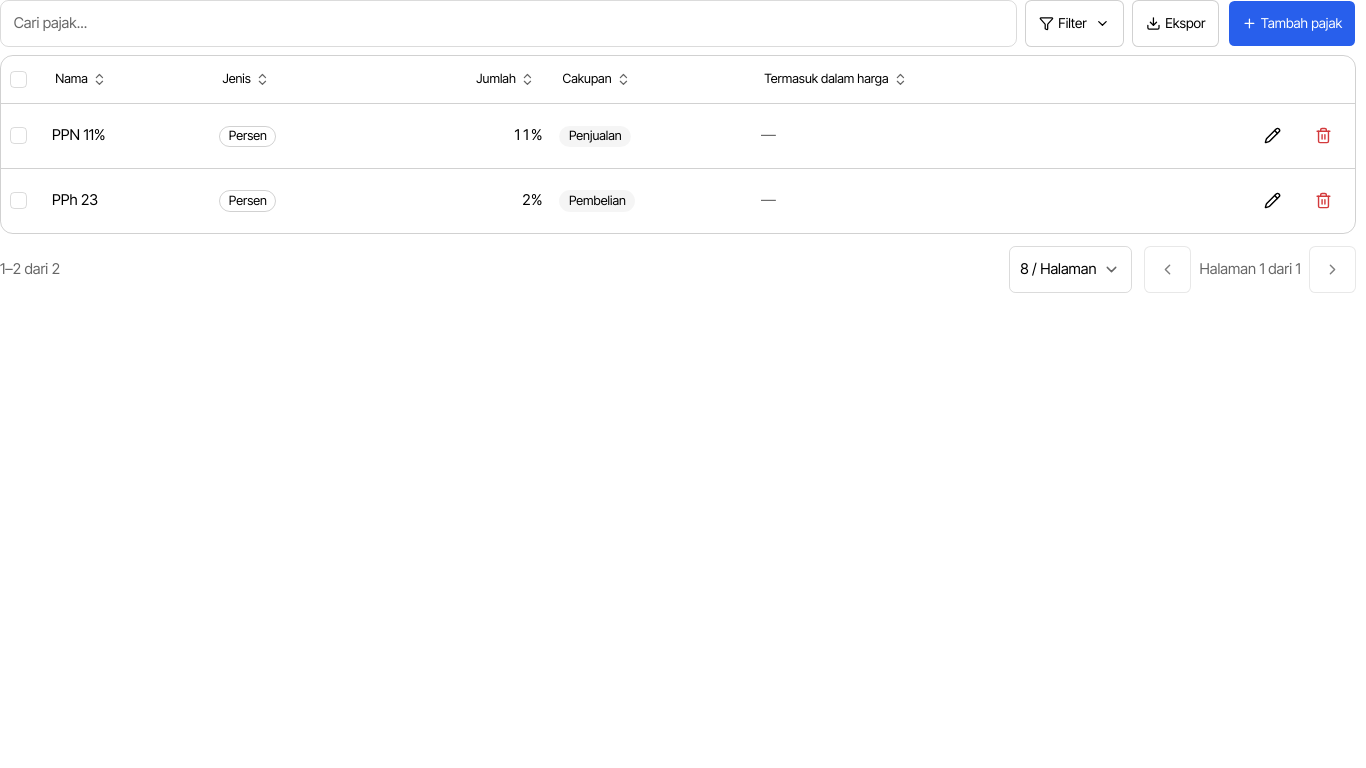
TaxesSection › opens the create dialog from the add button
The width and height of the screenshot is (1366, 768).
Expected: the text "PPN 11%" is shown, x1=52 y1=126 x2=105 y2=144
Click the button "Tambah pajak" at (1292, 23), box x1=1228 y1=0 x2=1356 y2=47
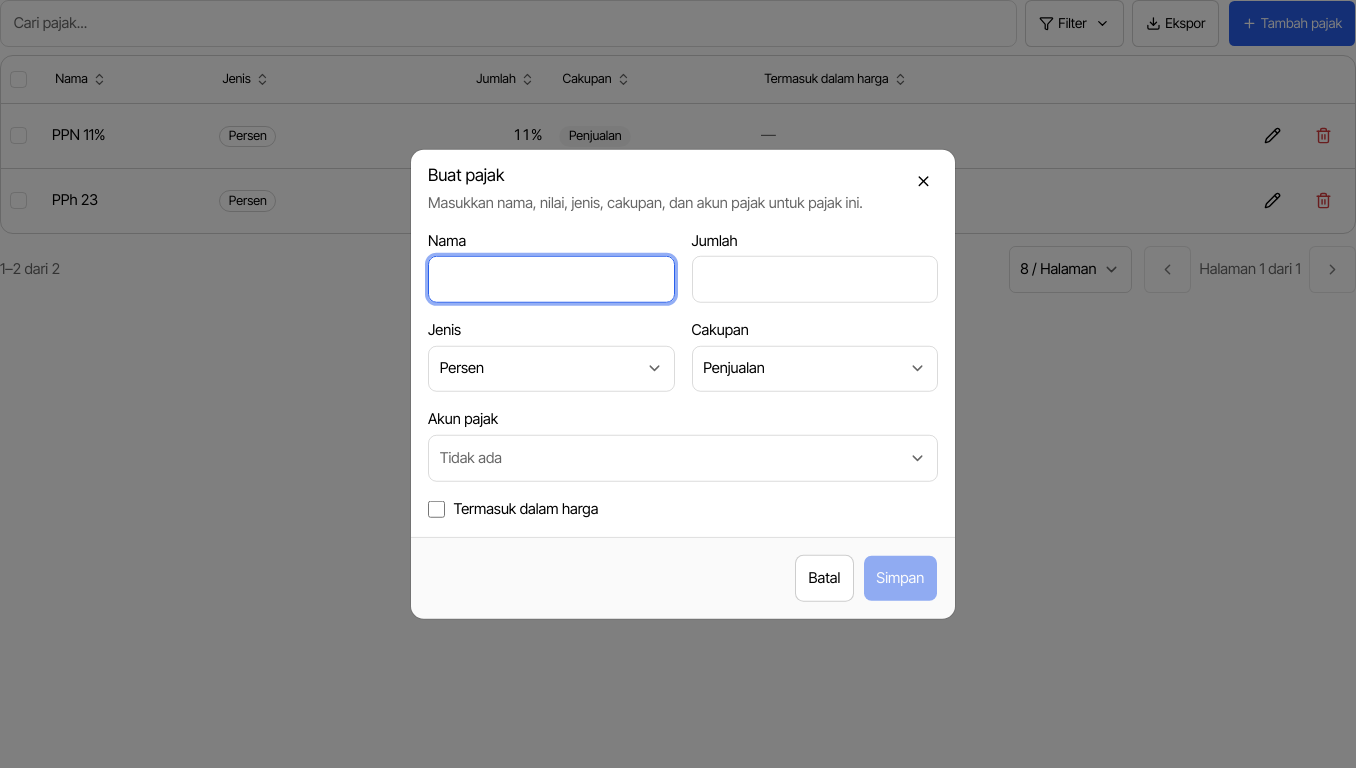
Now the dialog is shown, box x1=411 y1=150 x2=955 y2=618
Now the heading "Buat pajak" is shown, box x1=428 y1=165 x2=504 y2=185
